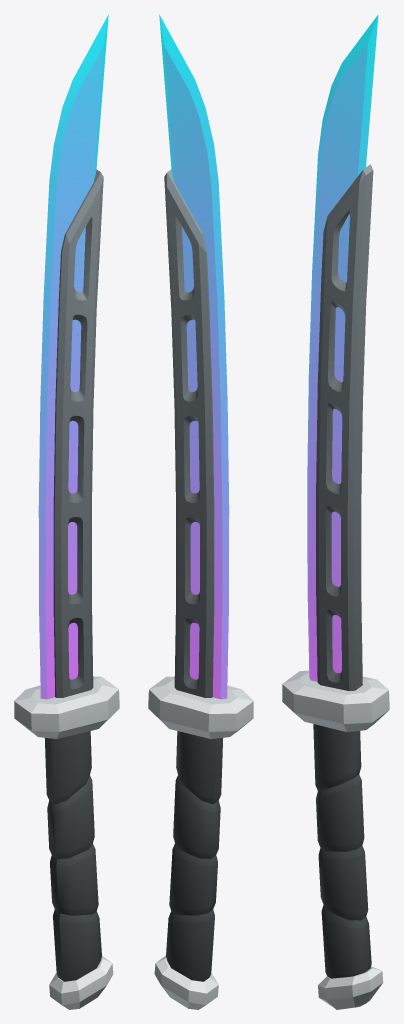
File: 4GTN_Katana.gltf
3 renders of one model, left to right at view 1: azimuth 30°, elevation 25°; view 2: azimuth 150°, elevation 25°; view 3: azimuth 330°, elevation 25°, orthographic.
Parts seen in each view (by area): view 1: 4GTN_Katana; view 2: 4GTN_Katana; view 3: 4GTN_Katana.
Part boxes in pixels (x1=…): 4GTN_Katana: x1=14, y1=14, x2=119, y2=1009; 4GTN_Katana: x1=148, y1=14, x2=253, y2=1009; 4GTN_Katana: x1=282, y1=14, x2=389, y2=1009.
Size of the model in its own units: 0.3998 by 4.25 by 0.2647.
2 materials, 2 textured.
